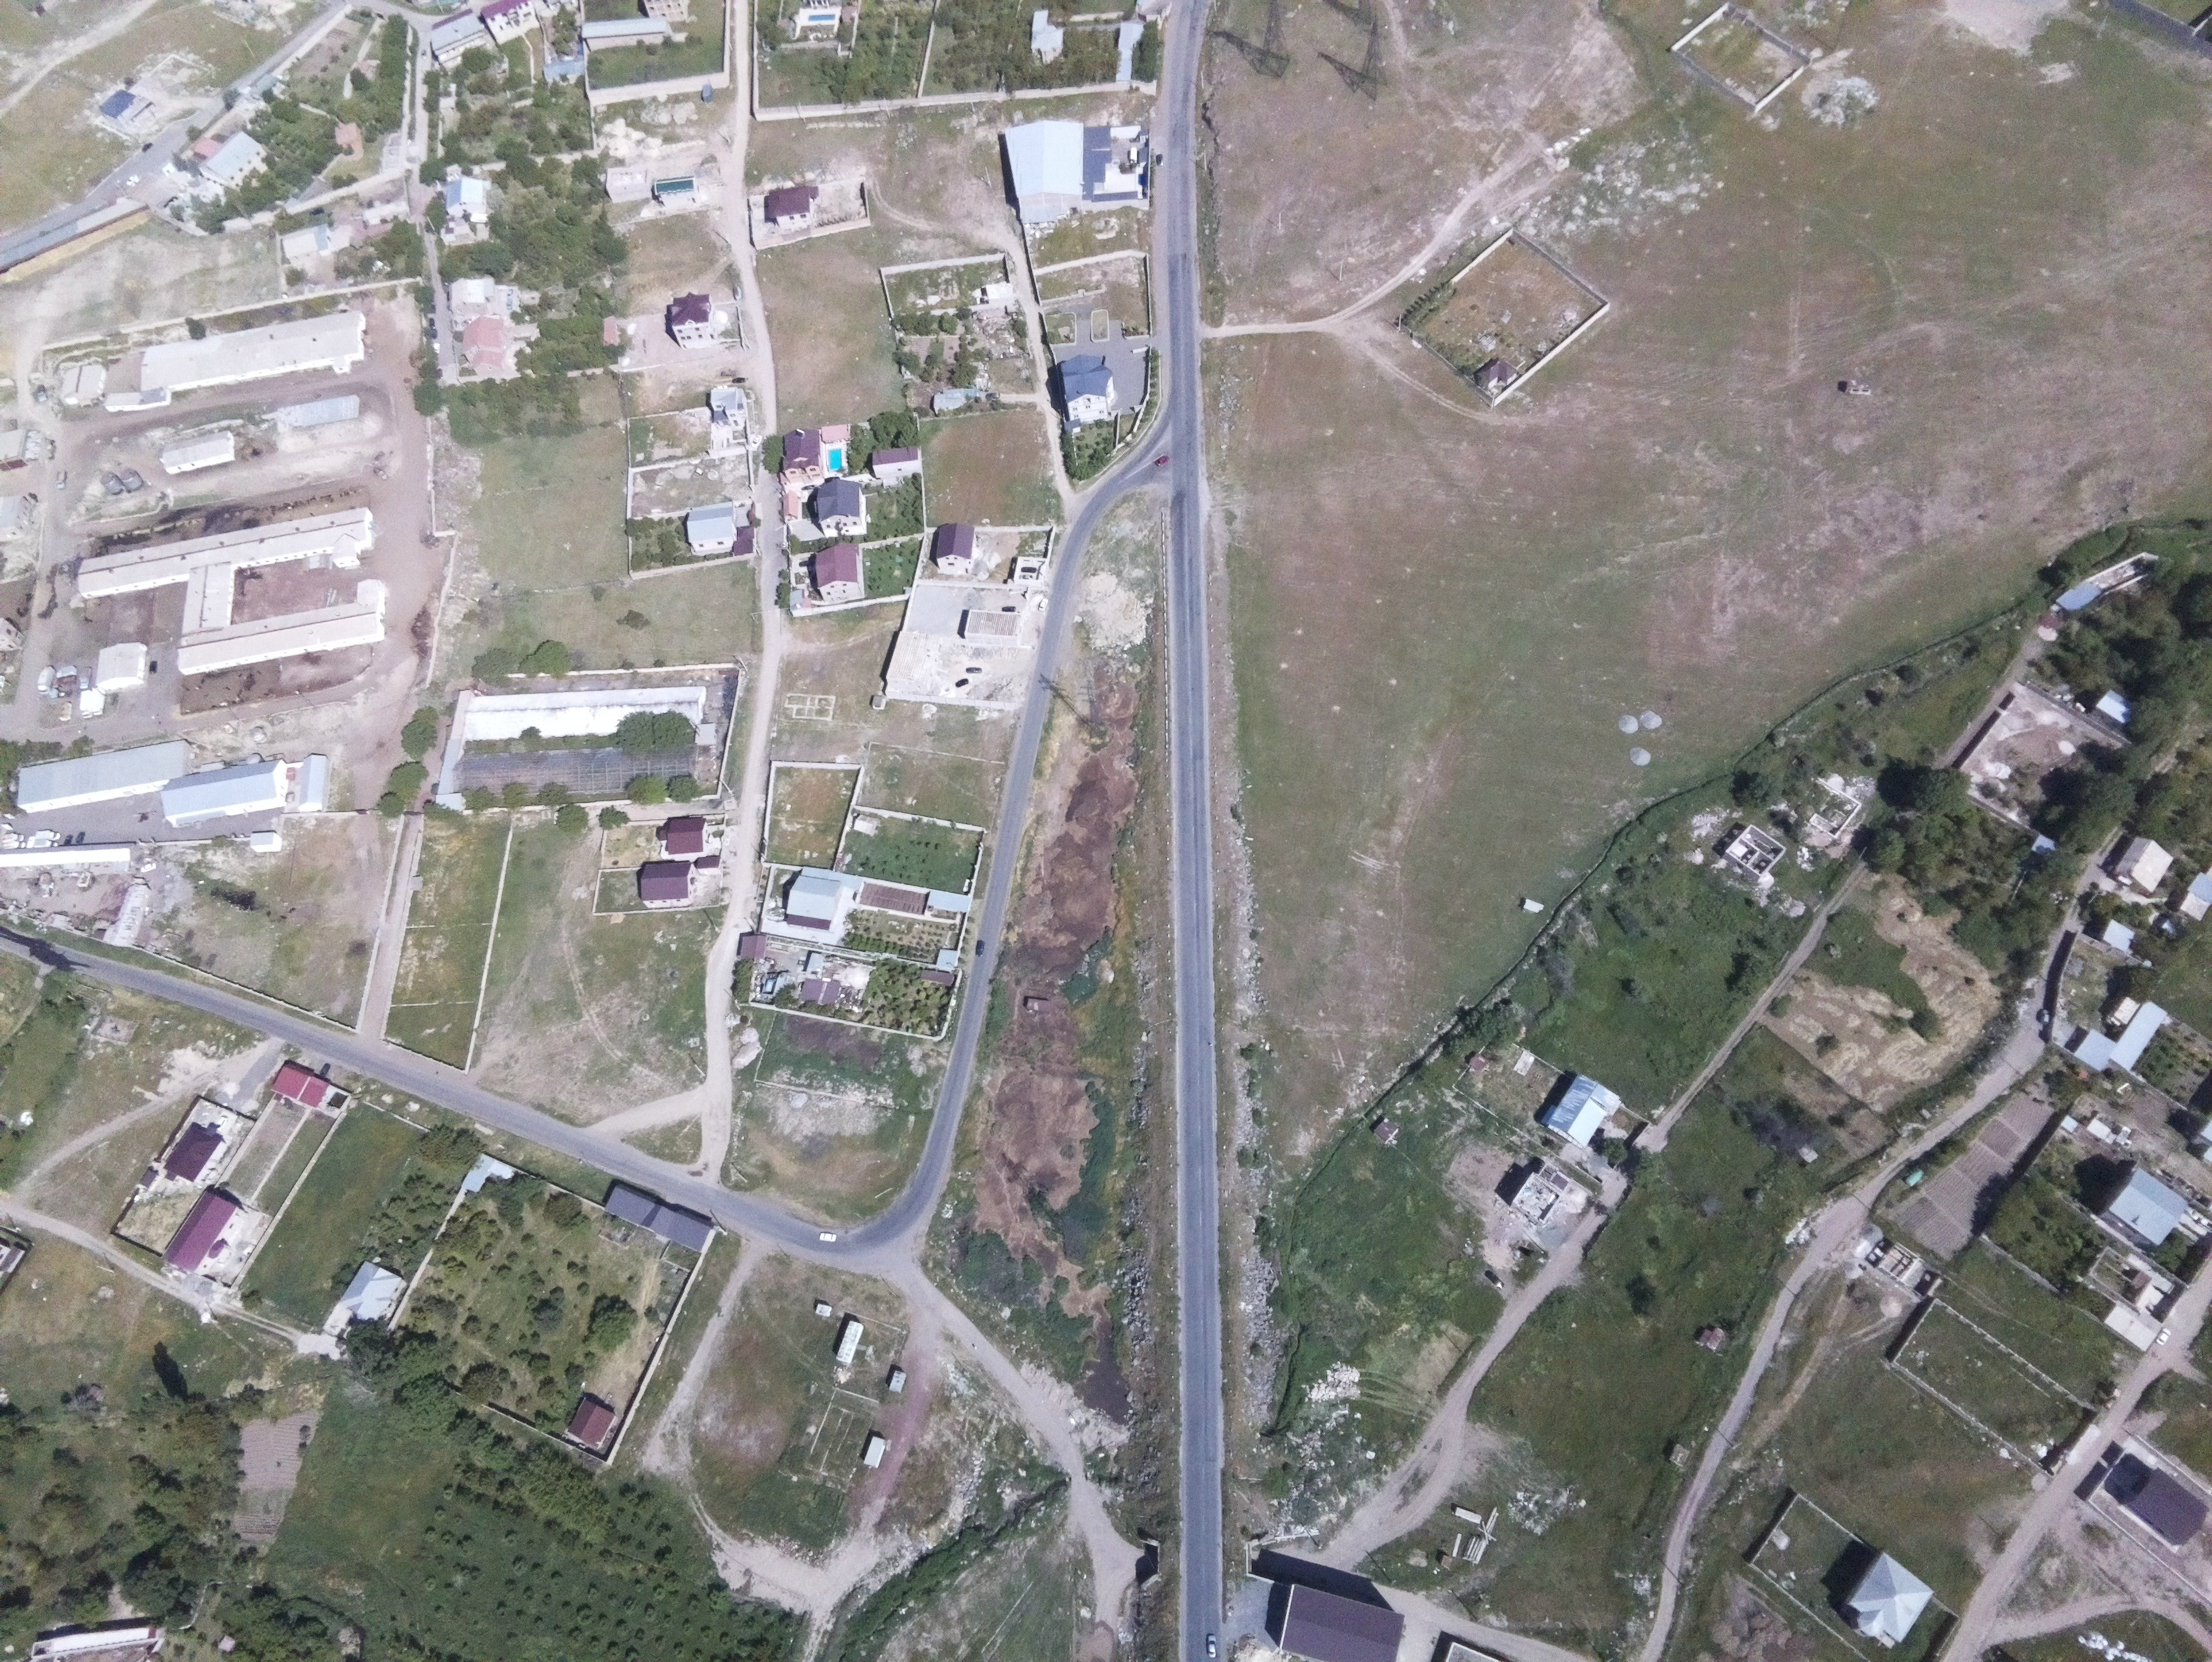car: (1201, 1625, 1222, 1662), (2153, 1323, 2174, 1350), (815, 1226, 842, 1246), (972, 934, 988, 962), (140, 857, 162, 876), (1035, 594, 1054, 615), (1152, 450, 1170, 470)
truck: (35, 665, 58, 697), (28, 826, 65, 843), (75, 658, 93, 690), (52, 468, 73, 494)
